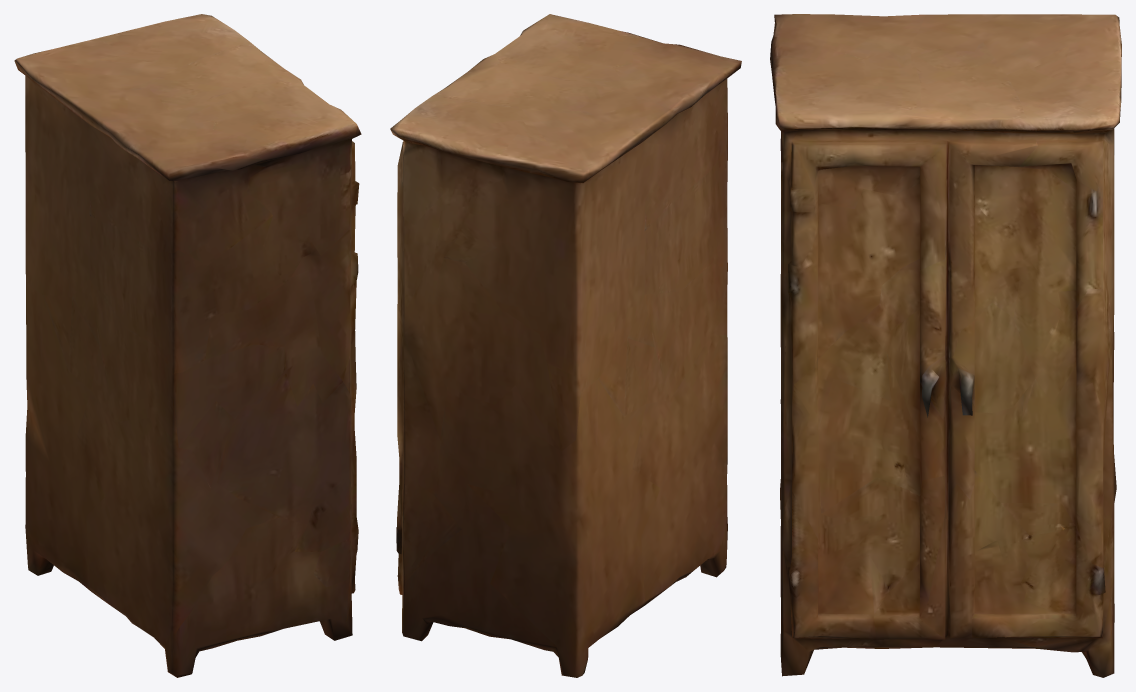
File: e_wardrobe.glb
The picture shows the model from 3 angles, left to right: view 1: azimuth 30°, elevation 25°; view 2: azimuth 150°, elevation 25°; view 3: azimuth 270°, elevation 25°; orthographic projection. The views are drawn at different scales.
Visible parts, largest first — view 1: tripo_node_415ffd0a-af86-4cb9-8f42-8cd363dd1ace; view 2: tripo_node_415ffd0a-af86-4cb9-8f42-8cd363dd1ace; view 3: tripo_node_415ffd0a-af86-4cb9-8f42-8cd363dd1ace.
Part boxes in pixels (box(x1,y1,x2,y2)): tripo_node_415ffd0a-af86-4cb9-8f42-8cd363dd1ace: box(14, 14, 361, 677); tripo_node_415ffd0a-af86-4cb9-8f42-8cd363dd1ace: box(390, 14, 741, 677); tripo_node_415ffd0a-af86-4cb9-8f42-8cd363dd1ace: box(770, 14, 1121, 677).
Size of the model in its own units: 0.4264 by 1 by 0.5639.
Materials: 1 (1 with a texture image).
